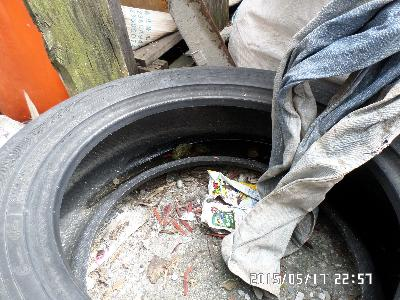tire: (1, 64, 400, 299)
